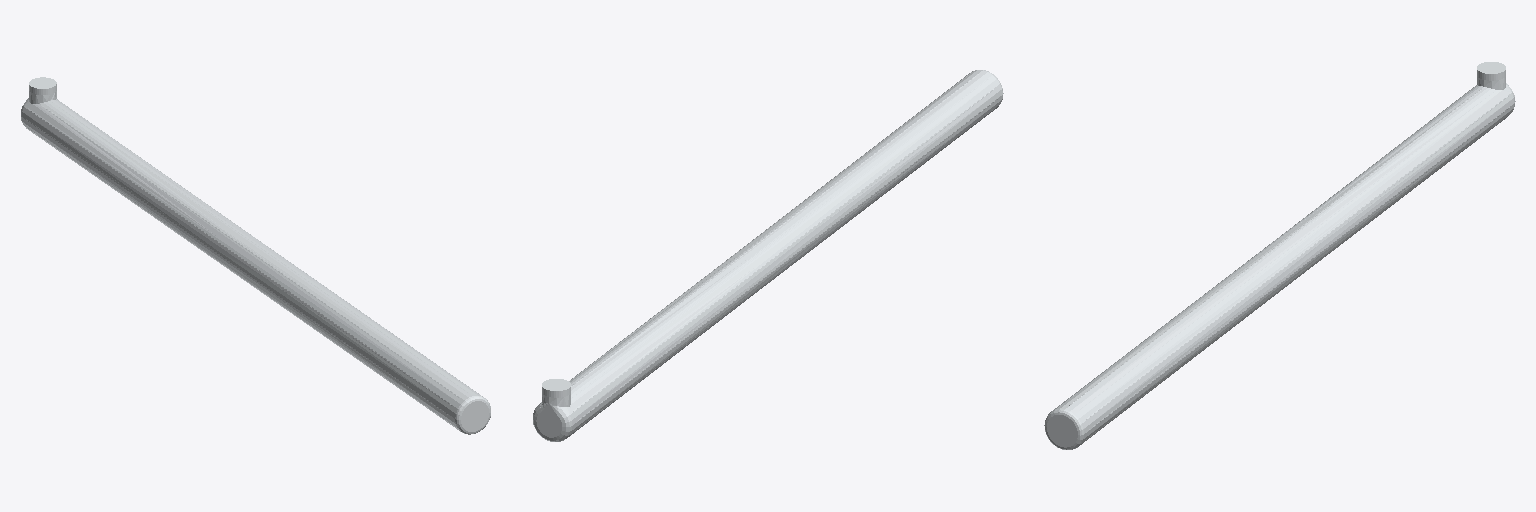
robot.urdf — arm:
<?xml version="1.0" encoding="utf-8" ?>
<!-- This URDF was automatically created by SolidWorks to URDF Exporter! Originally created by [author] ([email redacted]) 
     Commit Version: 1.5.1-0-g916b5db  Build Version: 1.5.7152.31018
     For more information, please see http://wiki.ros.org/sw_urdf_exporter -->
<robot name="arm">
    <link name="base_link">
        
<inertial>
            <origin xyz="0 0.0025 -5.3193E-19" rpy="0 0 0" />
            <mass value="0.0042412" />
            <inertia ixx="1.1486E-07" ixy="-2.049E-40" ixz="0" iyy="2.1206E-07" iyz="1.9372E-40" izz="1.1486E-07" />
        </inertial>

        <visual>
            <origin xyz="0 0 0" rpy="0 0 0" />
            <geometry>
                <mesh filename="package://arm/meshes/base_link.STL" />
            </geometry>
            <material name="">
                <color rgba="0.89804 0.91765 0.92941 1" />
            </material>
        </visual>
        <collision>
            <origin xyz="0 0 0" rpy="0 0 0" />
            <geometry>
                <mesh filename="package://arm/meshes/base_link.STL" />
            </geometry>
        </collision>
    </link>
    <link name="link1">
        
<inertial>
            <origin xyz="-3.2323E-08 0.28903 -0.019925" rpy="0 0 0" />
            <mass value="1.149" />
            <inertia ixx="0.034739" ixy="-1.0708E-09" ixz="1.1378E-09" iyy="0.0001302" iyz="2.5161E-05" izz="0.034738" />
        </inertial>

        <visual>
            <origin xyz="0 0 0" rpy="0 0 0" />
            <geometry>
                <mesh filename="package://arm/meshes/link1.STL" />
            </geometry>
            <material name="">
                <color rgba="0.89804 0.91765 0.92941 1" />
            </material>
        </visual>
        <collision>
            <origin xyz="0 0 0" rpy="0 0 0" />
            <geometry>
                <mesh filename="package://arm/meshes/link1.STL" />
            </geometry>
        </collision>
    </link>
    <joint name="joint1" type="continuous">
        <origin xyz="0 0 0" rpy="0 0 -3.1209" />
        <parent link="base_link" />
        <child link="link1" />
        <axis xyz="0 0 1" />
    </joint>
    <link name="link2">
        
<inertial>
            <origin xyz="1.1169E-15 0.29988 -1.3878E-17" rpy="0 0 0" />
            <mass value="1.1446" />
            <inertia ixx="0.034376" ixy="-2.3463E-19" ixz="3.6158E-20" iyy="0.00012873" iyz="-1.3726E-18" izz="0.034376" />
        </inertial>

        <visual>
            <origin xyz="0 0 0" rpy="0 0 0" />
            <geometry>
                <mesh filename="package://arm/meshes/link2.STL" />
            </geometry>
            <material name="">
                <color rgba="0.89804 0.91765 0.92941 1" />
            </material>
        </visual>
        <collision>
            <origin xyz="0 0 0" rpy="0 0 0" />
            <geometry>
                <mesh filename="package://arm/meshes/link2.STL" />
            </geometry>
        </collision>
    </link>
    <joint name="joint2" type="prismatic">
        <origin xyz="0 0 -0.02" rpy="3.1416 0.028976 3.1416" />
        <parent link="link1" />
        <child link="link2" />
        <axis xyz="0 1 0" />
        <limit lower="0" upper="0.5" effort="0" velocity="0" />
    </joint>
    
<transmission name="trans_joint1">
        <type>transmission_interface/SimpleTransmission</type>
        <joint name="joint1">
            <hardwareInterface>hardware_interface/EffortJointInterface</hardwareInterface>
        </joint>
        <actuator name="joint1_motor">
            <hardwareInterface>hardware_interface/EffortJointInterface</hardwareInterface>
            <mechanicalReduction>1</mechanicalReduction>
        </actuator>
    </transmission>
    <transmission name="trans_joint2">
        <type>transmission_interface/SimpleTransmission</type>
        <joint name="joint2">
            <hardwareInterface>hardware_interface/EffortJointInterface</hardwareInterface>
        </joint>
        <actuator name="joint2_motor">
            <hardwareInterface>hardware_interface/EffortJointInterface</hardwareInterface>
            <mechanicalReduction>1</mechanicalReduction>
        </actuator>
    </transmission>
    <gazebo>
        <plugin name="gazebo_ros_control" filename="libgazebo_ros_control.so">
            <robotNamespace>/</robotNamespace>
        </plugin>
    </gazebo>
</robot>

--- Render facts (derived) ---
The picture shows the robot from 3 angles, left to right: view 1: azimuth 30°, elevation 25°; view 2: azimuth 150°, elevation 25°; view 3: azimuth 330°, elevation 25°; orthographic projection.
Model arm with 3 links and 2 joints (1 continuous, 1 prismatic), rooted at base_link, posed every joint at zero.
Links seen in each view (by area): view 1: link2, link1; view 2: link2, link1; view 3: link2, link1.
Link boxes in pixels (left/top/right/bottom): link2: left=26, top=103, right=490, bottom=434; link1: left=21, top=91, right=473, bottom=423; link2: left=571, top=70, right=1003, bottom=430; link1: left=533, top=74, right=997, bottom=441; link2: left=1044, top=87, right=1509, bottom=449; link1: left=1060, top=77, right=1515, bottom=439.
Bounding box of the posed robot: 0.0424 × 0.6103 × 0.04 m (x, y, z).
3 mesh visuals loaded from 3 distinct referenced files (3 binary STL).